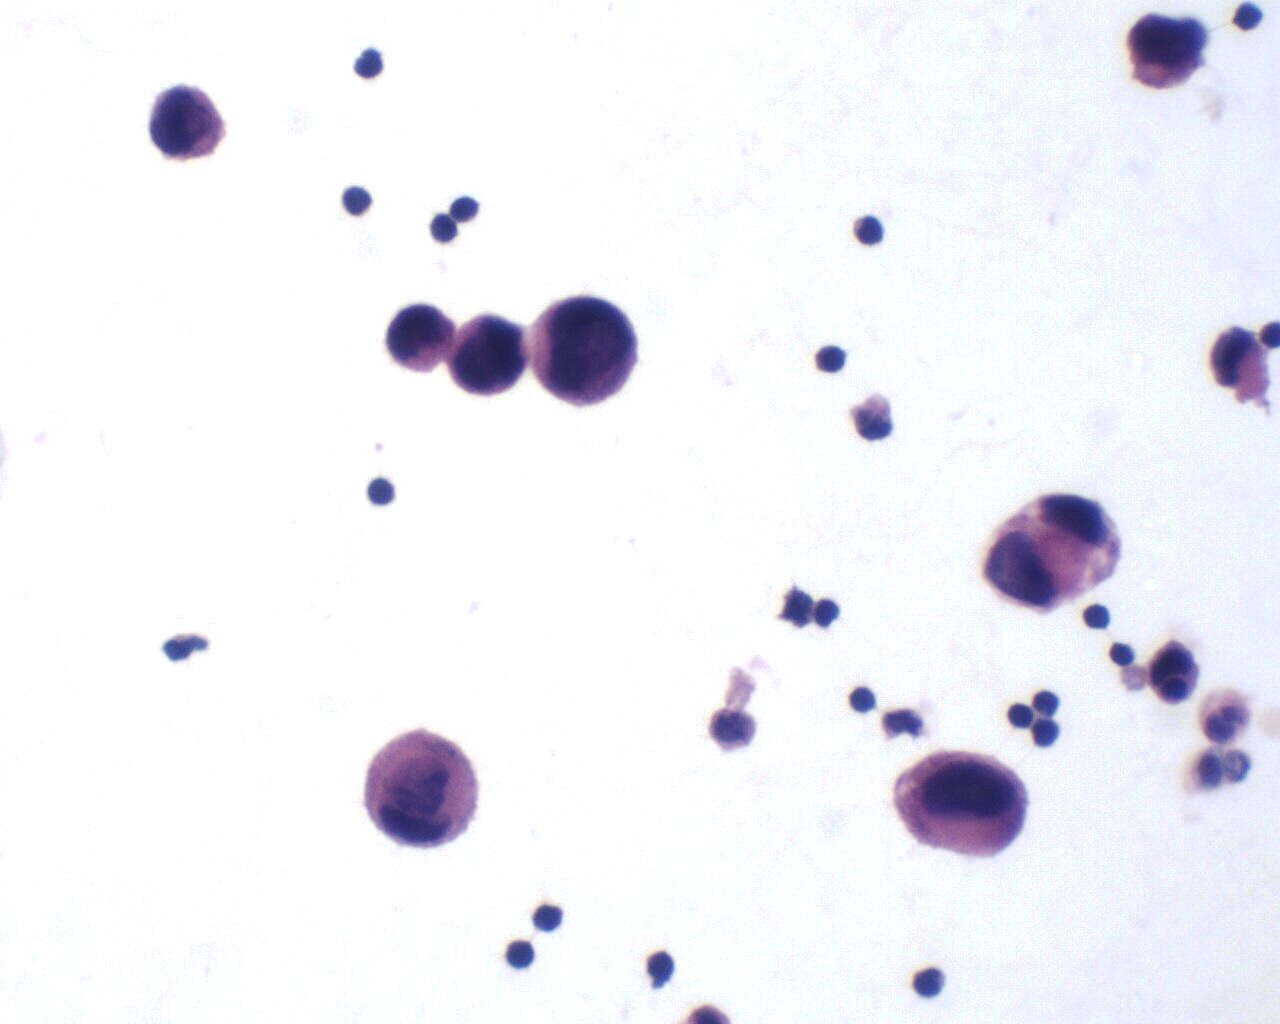ab: (976, 488, 1124, 612), (889, 745, 1030, 859), (526, 295, 647, 409), (143, 79, 232, 167), (443, 313, 530, 402), (1225, 1, 1270, 38), (425, 209, 466, 245), (1001, 699, 1037, 731)
lymph: (1077, 594, 1122, 639), (812, 336, 856, 381), (336, 185, 381, 225), (504, 938, 546, 975), (366, 472, 401, 514), (845, 684, 881, 717)
